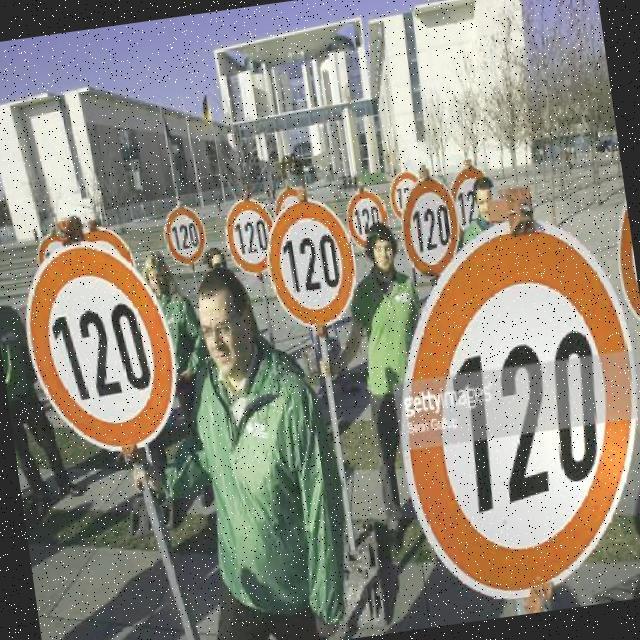Ograniczenie predkosci do 120: (221, 195, 280, 278), (404, 187, 459, 271), (343, 182, 394, 250), (160, 203, 210, 270)
